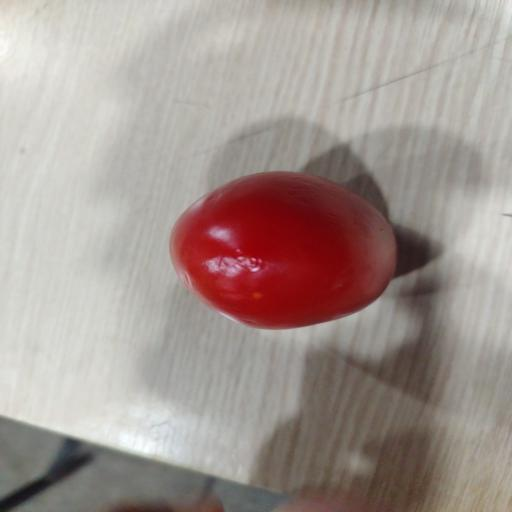spoiled: (170, 172, 397, 329)
